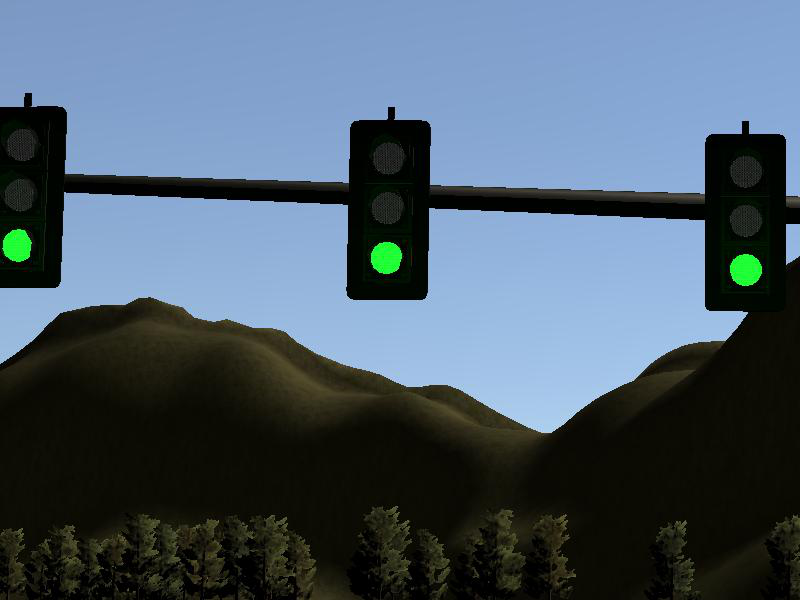green: (704, 134, 787, 312), (349, 121, 430, 299), (1, 104, 65, 287)
